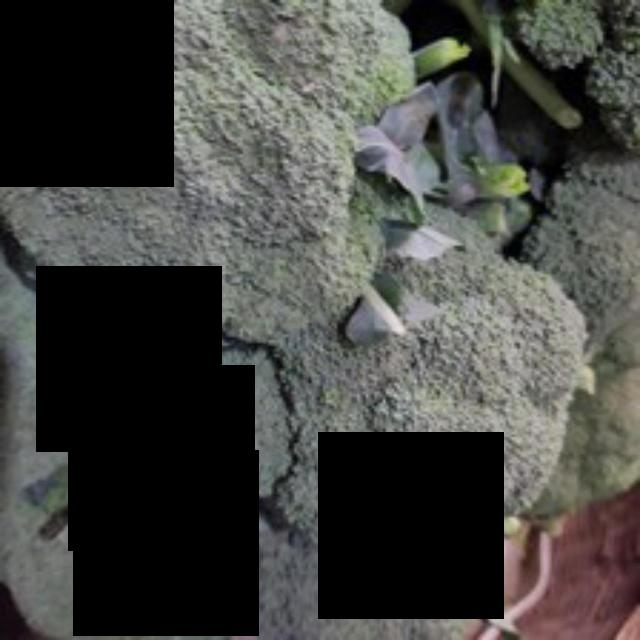broccoli: (0, 0, 422, 364)
